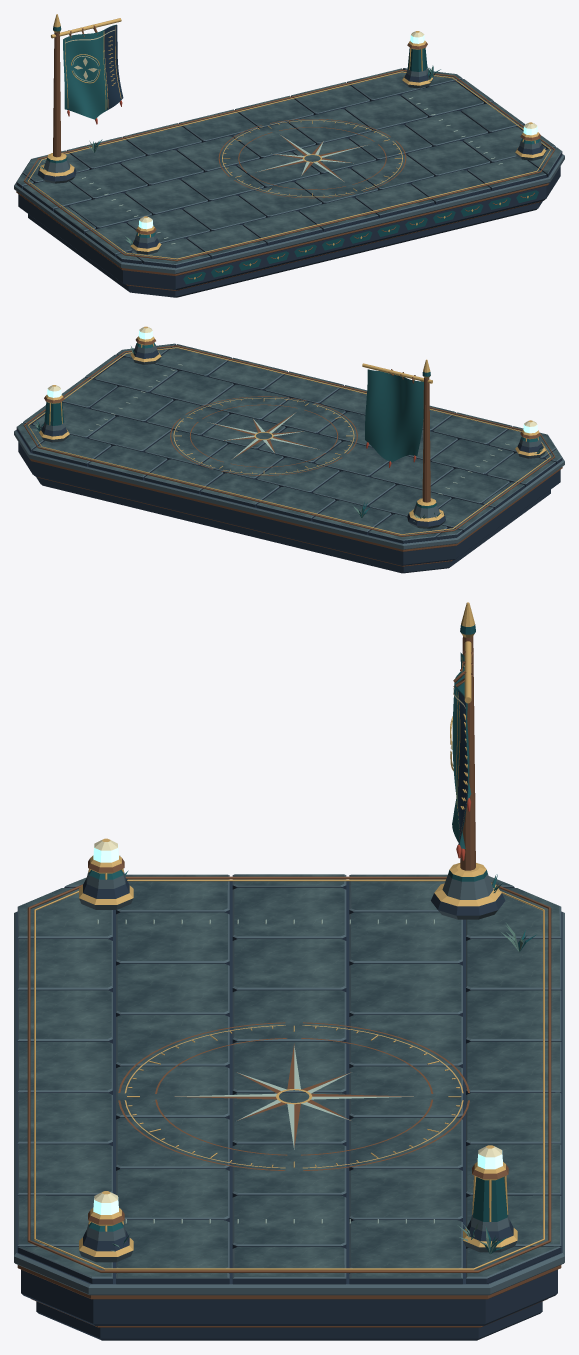
File: SignalCourt.glb
3 views of the same model, one above another, from view 1: azimuth 30°, elevation 25°; view 2: azimuth 150°, elevation 25°; view 3: azimuth 270°, elevation 25° (orthographic). The views are drawn at different scales.
Visible parts, largest first — view 1: Court.02 | vein-matched cut pavers, Court.01 | stepped octagonal foundation, Court.04 | meridian pennon and waylights, Court.03 | survey dial and perimeter inlay; view 2: Court.02 | vein-matched cut pavers, Court.01 | stepped octagonal foundation, Court.04 | meridian pennon and waylights, Court.03 | survey dial and perimeter inlay; view 3: Court.02 | vein-matched cut pavers, Court.01 | stepped octagonal foundation, Court.04 | meridian pennon and waylights, Court.03 | survey dial and perimeter inlay.
Boxes of the visible parts, x1,y1,x2,y2 form: Court.02 | vein-matched cut pavers: [16, 68, 562, 267]; Court.01 | stepped octagonal foundation: [14, 154, 564, 297]; Court.04 | meridian pennon and waylights: [37, 14, 546, 254]; Court.03 | survey dial and perimeter inlay: [23, 69, 555, 261]; Court.02 | vein-matched cut pavers: [16, 343, 562, 543]; Court.01 | stepped octagonal foundation: [14, 430, 564, 573]; Court.04 | meridian pennon and waylights: [31, 326, 545, 528]; Court.03 | survey dial and perimeter inlay: [23, 345, 554, 536]; Court.02 | vein-matched cut pavers: [17, 874, 561, 1284]; Court.01 | stepped octagonal foundation: [14, 881, 564, 1340]; Court.04 | meridian pennon and waylights: [79, 602, 536, 1262]; Court.03 | survey dial and perimeter inlay: [27, 876, 551, 1272].
Bounding box in the file's own units: 8.24 × 3.56 × 4.72.
Materials: 13 (1 with a texture image).
